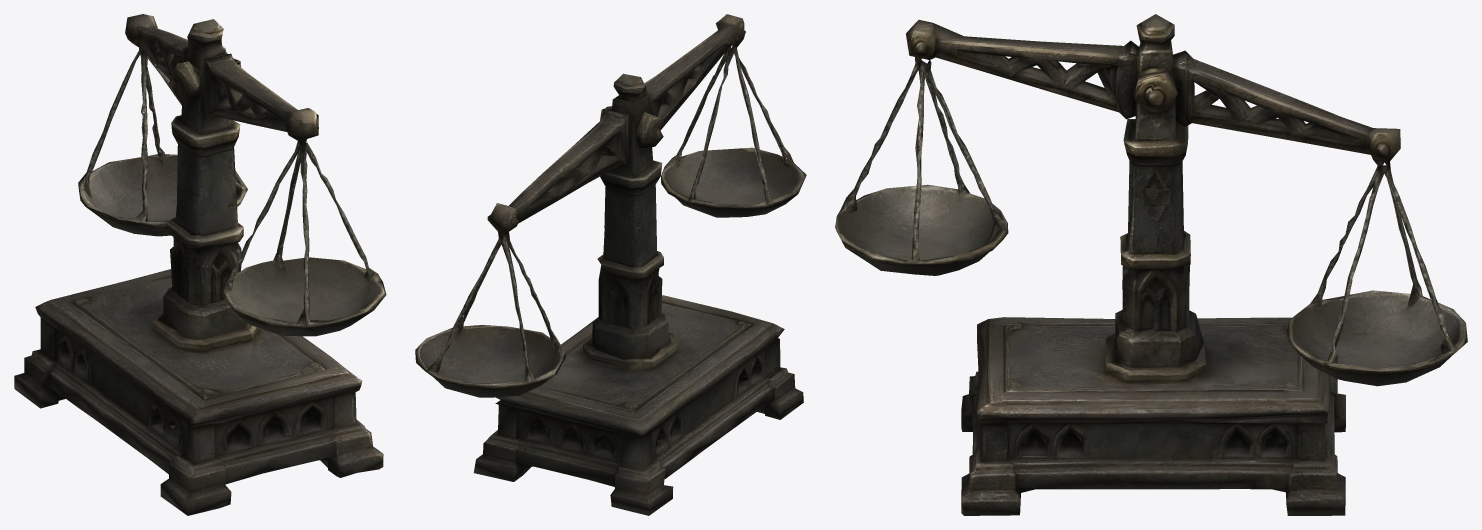
Rendered from antique+balance+scale+3d+model.glb.
The picture shows the model from 3 angles, left to right: view 1: azimuth 30°, elevation 25°; view 2: azimuth 150°, elevation 25°; view 3: azimuth 270°, elevation 25°; orthographic projection. The views are drawn at different scales.
Parts seen in each view (by area): view 1: tripo_node_65794acd-6bf1-483c-9172-1859b12b1dd5; view 2: tripo_node_65794acd-6bf1-483c-9172-1859b12b1dd5; view 3: tripo_node_65794acd-6bf1-483c-9172-1859b12b1dd5.
Boxes of the visible parts, x1,y1,x2,y2 form: tripo_node_65794acd-6bf1-483c-9172-1859b12b1dd5: (14,14,386,515); tripo_node_65794acd-6bf1-483c-9172-1859b12b1dd5: (415,14,806,515); tripo_node_65794acd-6bf1-483c-9172-1859b12b1dd5: (835,14,1467,515).
Bounding box in the file's own units: 0.4768 × 0.7829 × 1.
1 material, 1 textured.
